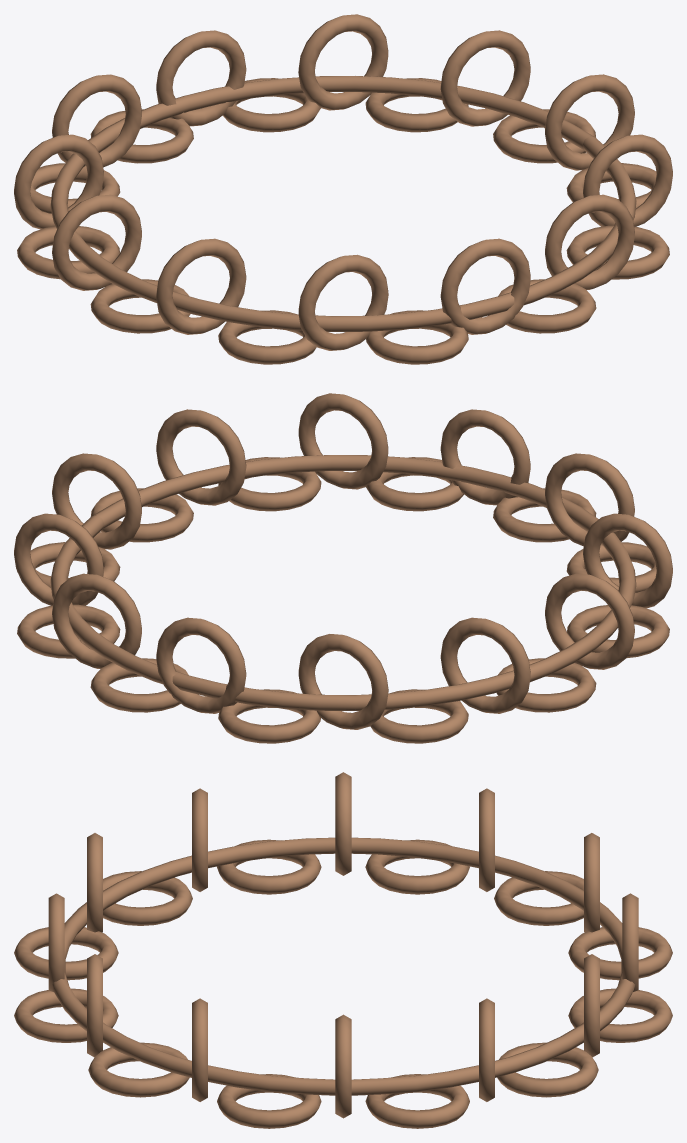
File: scavengers-loot-library-jewellery-chain-622c834b__2649.glb
3 views of the same model, one above another, from view 1: azimuth 30°, elevation 25°; view 2: azimuth 150°, elevation 25°; view 3: azimuth 270°, elevation 25° (orthographic).
Parts seen in each view (by area): view 1: jewellery-chain; view 2: jewellery-chain; view 3: jewellery-chain.
Part boxes in pixels (x1,y1,x2,y2): jewellery-chain: (14,14,672,364); jewellery-chain: (14,393,672,743); jewellery-chain: (14,772,672,1128).
Bounding box in the file's own units: 0.0946 × 0.0146 × 0.0919.
